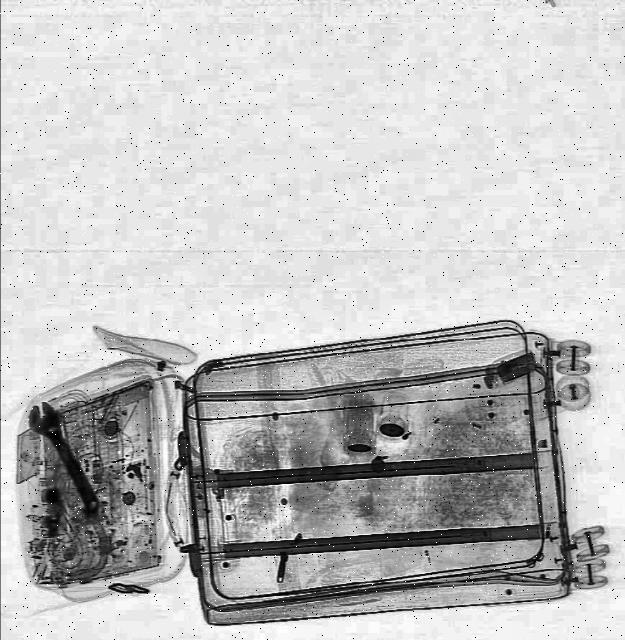Wrench: (17, 396, 106, 522)
